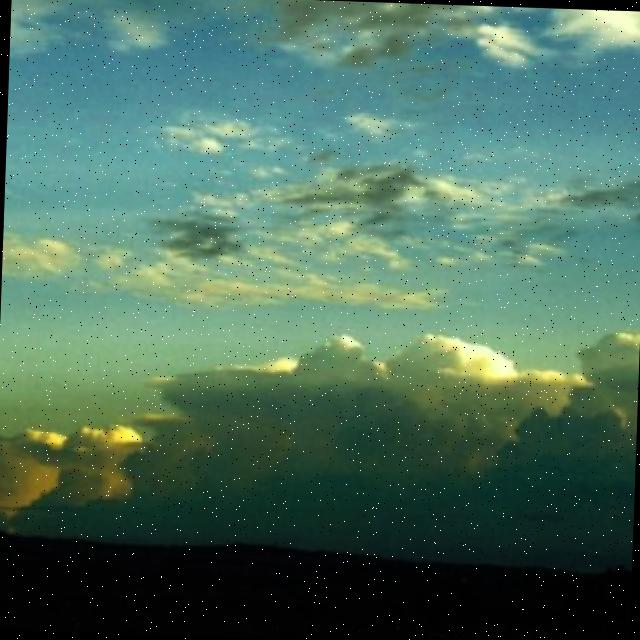Cu: (1, 217, 640, 544)
